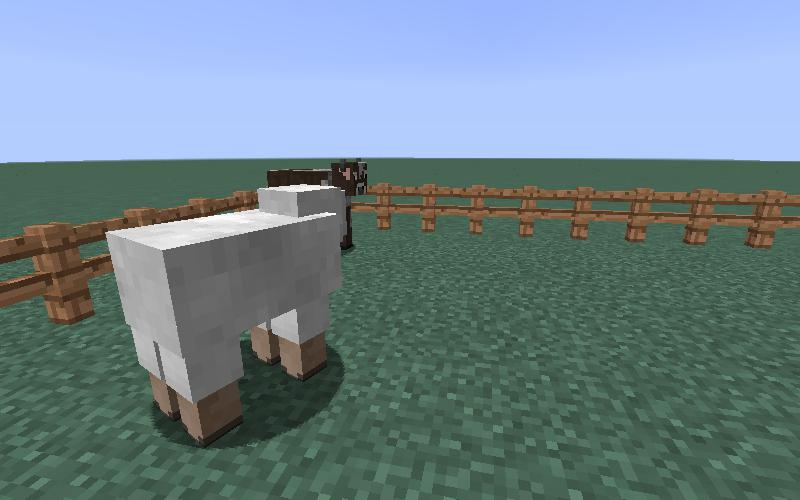cow: (266, 160, 369, 190)
sheep: (100, 181, 354, 453)
